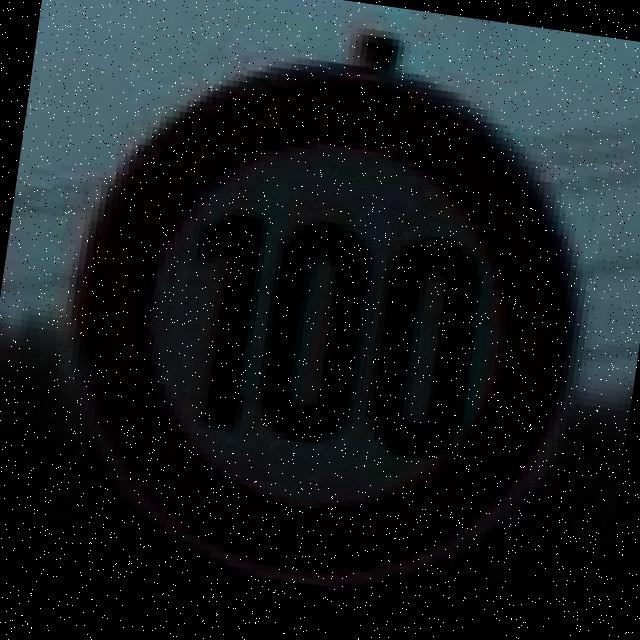Ograniczenie predkosci do 100: (26, 23, 619, 624)
